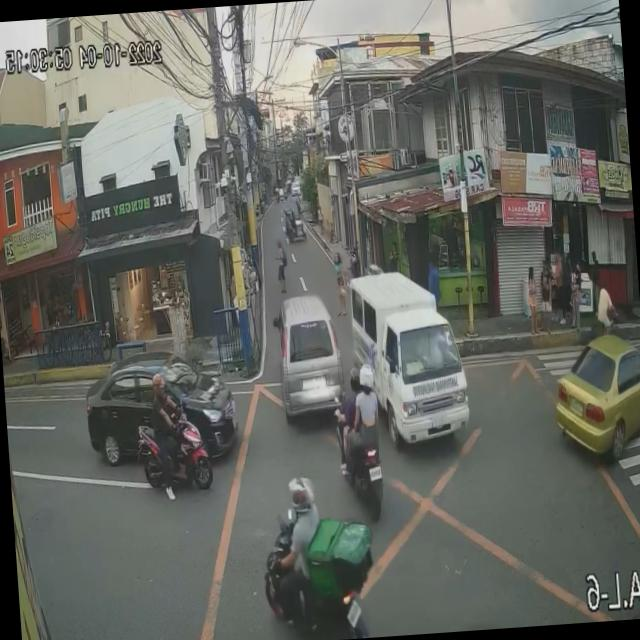full: (286, 474, 316, 516), (150, 368, 168, 401)
half: (357, 362, 376, 393), (346, 360, 363, 393)
